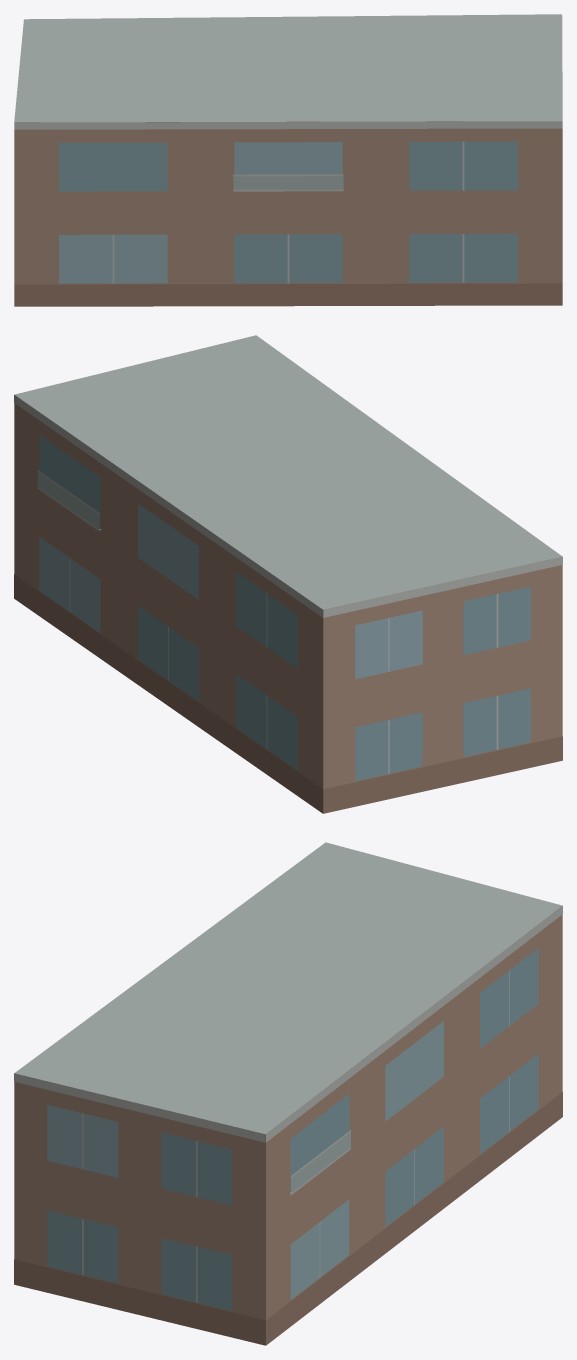
File: survey-upis-32721883.glb
3 views of the same model, one above another, from view 1: azimuth 30°, elevation 25°; view 2: azimuth 150°, elevation 25°; view 3: azimuth 270°, elevation 25° (orthographic). The views are drawn at different scales.
Parts seen in each view (by area): view 1: survey-upis-32721883.tmp; view 2: survey-upis-32721883.tmp; view 3: survey-upis-32721883.tmp.
Boxes of the visible parts, x1,y1,x2,y2 form: survey-upis-32721883.tmp: [14, 14, 562, 306]; survey-upis-32721883.tmp: [14, 335, 562, 813]; survey-upis-32721883.tmp: [14, 842, 562, 1345].
Bounding box in the file's own units: 18.09 × 6.1 × 14.36.
